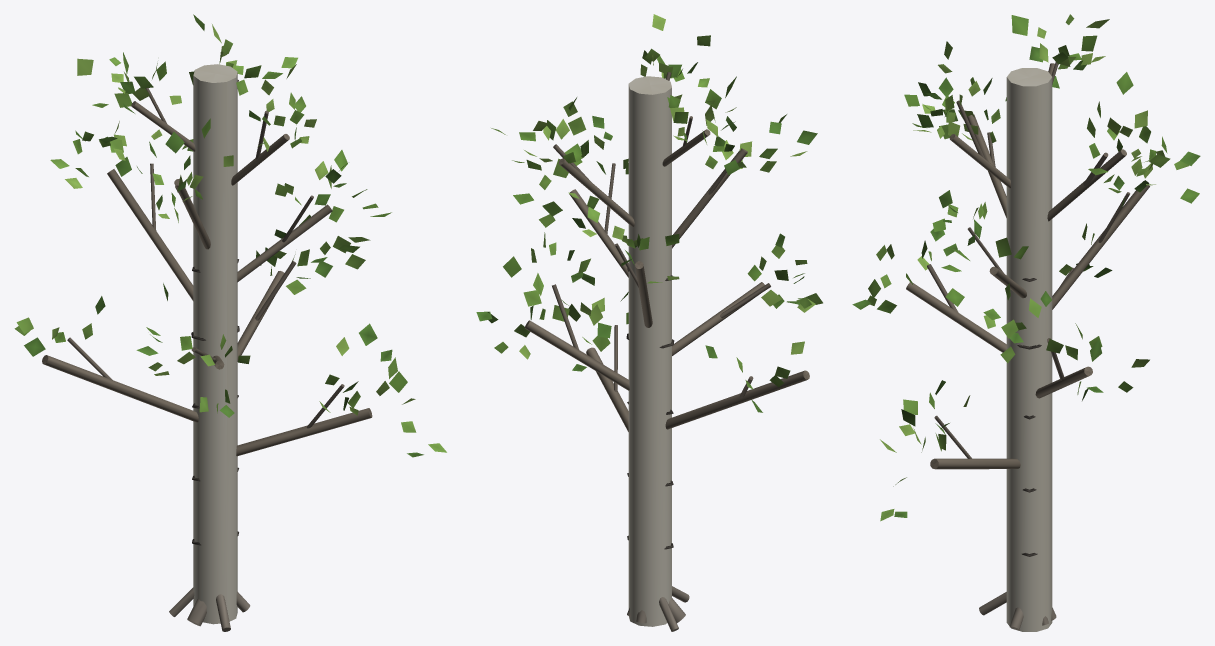
Rendered from standard-lod1.glb.
3 renders of one model, left to right at view 1: azimuth 30°, elevation 25°; view 2: azimuth 150°, elevation 25°; view 3: azimuth 270°, elevation 25°, orthographic. The views are drawn at different scales.
Visible parts, largest first — view 1: birch-bark-branches-buried-roots-ground-blend, birch-bifurcated-twigs-and-leaves; view 2: birch-bark-branches-buried-roots-ground-blend, birch-bifurcated-twigs-and-leaves; view 3: birch-bark-branches-buried-roots-ground-blend, birch-bifurcated-twigs-and-leaves.
Boxes of the visible parts, x1=… form: birch-bark-branches-buried-roots-ground-blend: x1=42, y1=64, x2=372, y2=631; birch-bifurcated-twigs-and-leaves: x1=14, y1=14, x2=446, y2=457; birch-bark-branches-buried-roots-ground-blend: x1=524, y1=72, x2=809, y2=631; birch-bifurcated-twigs-and-leaves: x1=476, y1=14, x2=822, y2=412; birch-bark-branches-buried-roots-ground-blend: x1=906, y1=62, x2=1149, y2=631; birch-bifurcated-twigs-and-leaves: x1=852, y1=14, x2=1200, y2=521.
Bounding box in the file's own units: 10.17 × 17 × 9.24.
